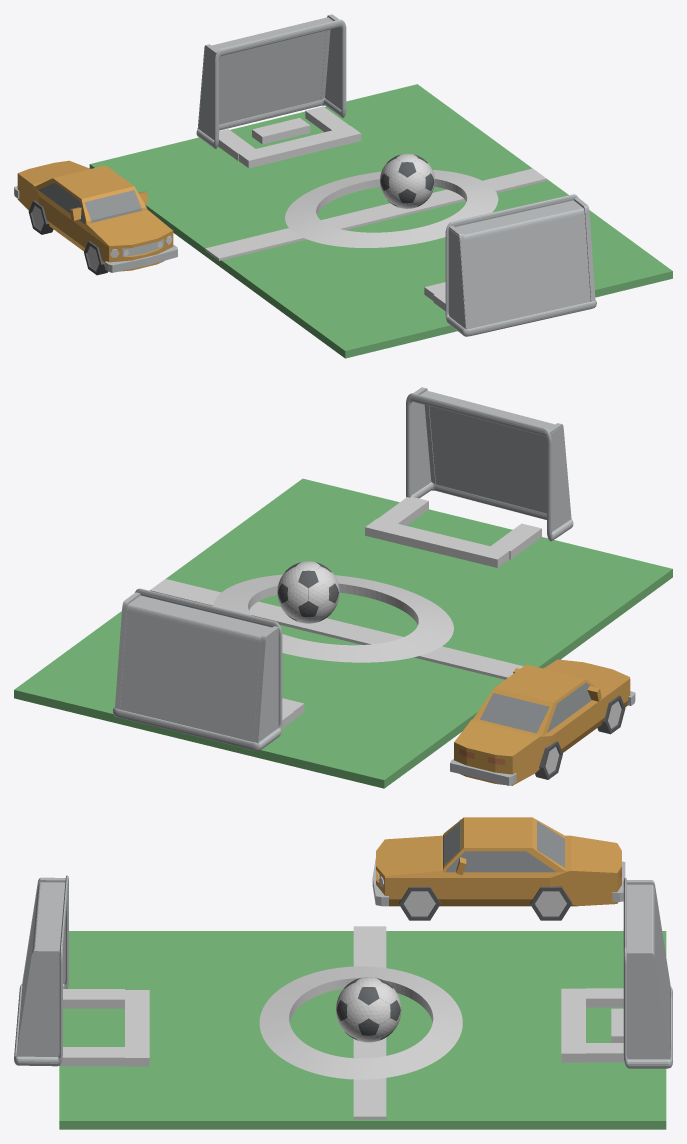
The model's file is Swanky Kieran-Jarv.glb.
The picture shows the model from 3 angles, top to bottom: view 1: azimuth 30°, elevation 25°; view 2: azimuth 150°, elevation 25°; view 3: azimuth 270°, elevation 25°; orthographic projection. The views are drawn at different scales.
Visible parts, largest first — view 1: Mesh_Mesh_head_geo.001_lambert2SG.001; view 2: Mesh_Mesh_head_geo.001_lambert2SG.001; view 3: Mesh_Mesh_head_geo.001_lambert2SG.001.
Part boxes in pixels (x1,y1,x2,y2): Mesh_Mesh_head_geo.001_lambert2SG.001: [14, 14, 672, 358]; Mesh_Mesh_head_geo.001_lambert2SG.001: [14, 387, 672, 788]; Mesh_Mesh_head_geo.001_lambert2SG.001: [14, 817, 672, 1129].
Bounding box in the file's own units: 0.1805 × 0.043 × 0.2008.
